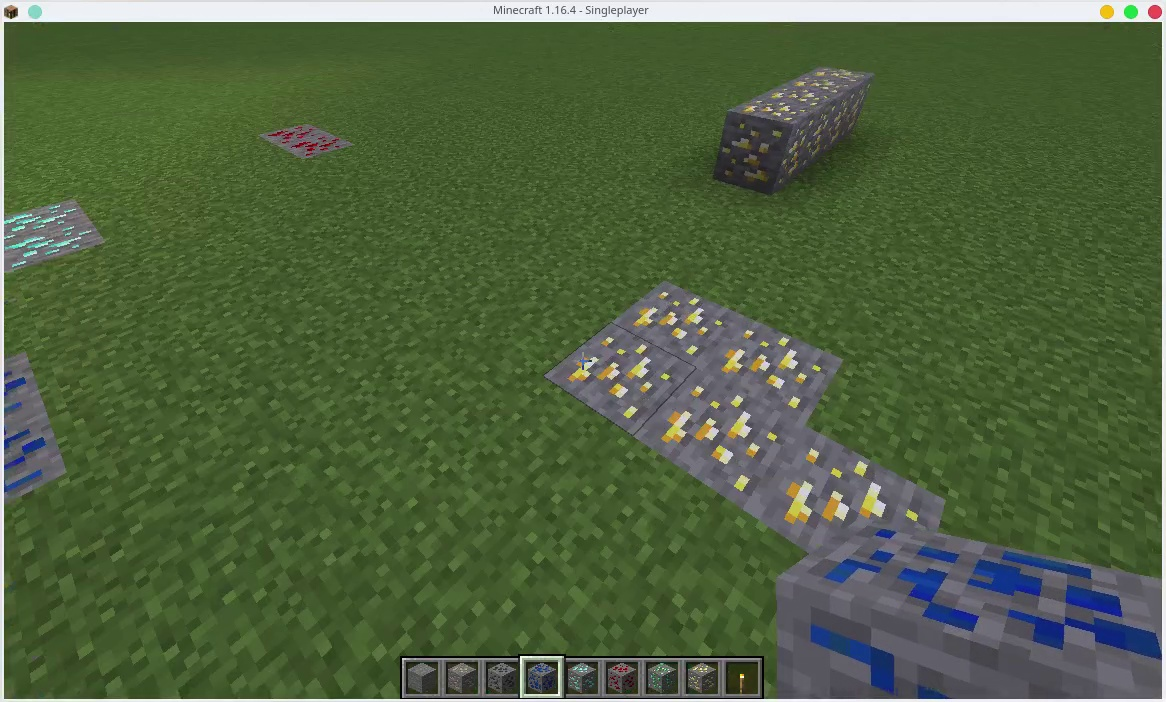gold: (782, 433, 928, 527), (722, 314, 846, 413), (662, 392, 786, 475), (713, 101, 810, 192), (574, 339, 671, 414), (640, 285, 720, 355), (781, 74, 837, 156), (820, 67, 864, 120), (683, 664, 719, 694)
